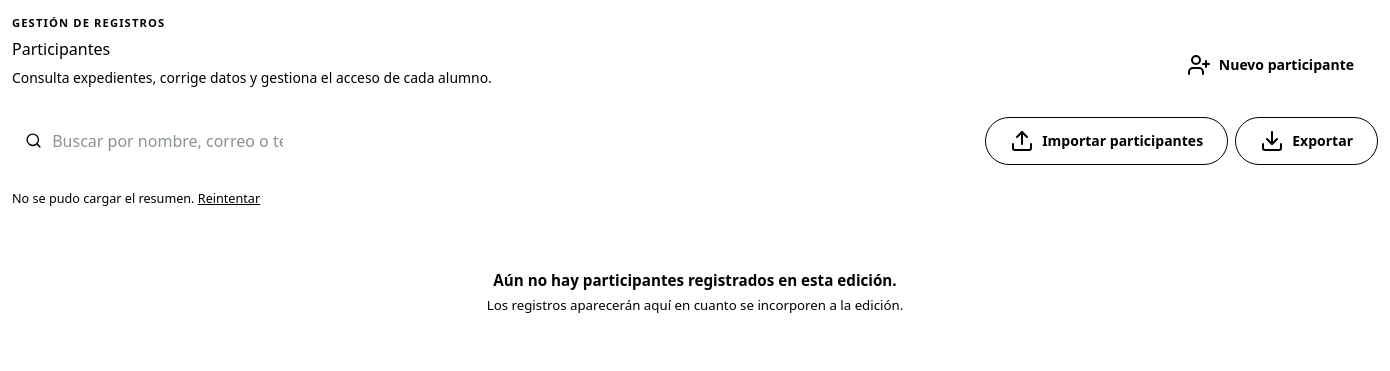
Test: no match explains the likely cause of "no puede entrar" and points to self-registration, not to manual signup
This screenshot has width=1390, height=371.
In the field named "Buscar participante": (168, 140) [52,128,283,152], type "nadie@correo.com"
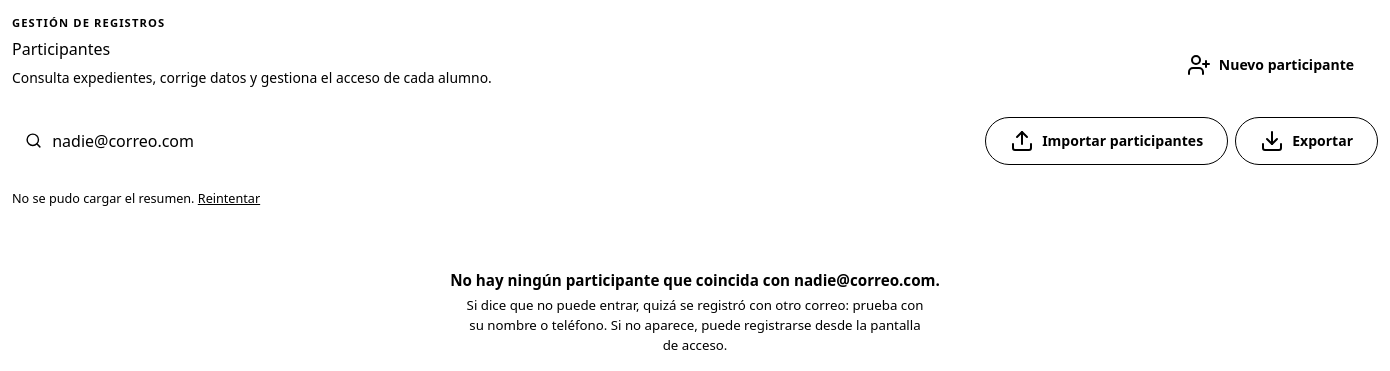
Now the text "puede registrarse desde la pantalla de acceso" is shown, box [467,296,923,354]
Now the text "nadie@correo.com" is shown, box [794,270,936,290]
